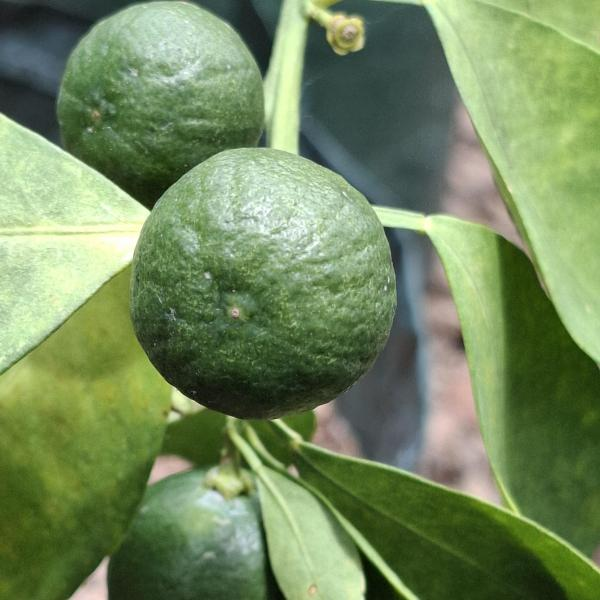Scab: (116, 144, 412, 433), (47, 1, 289, 201)
